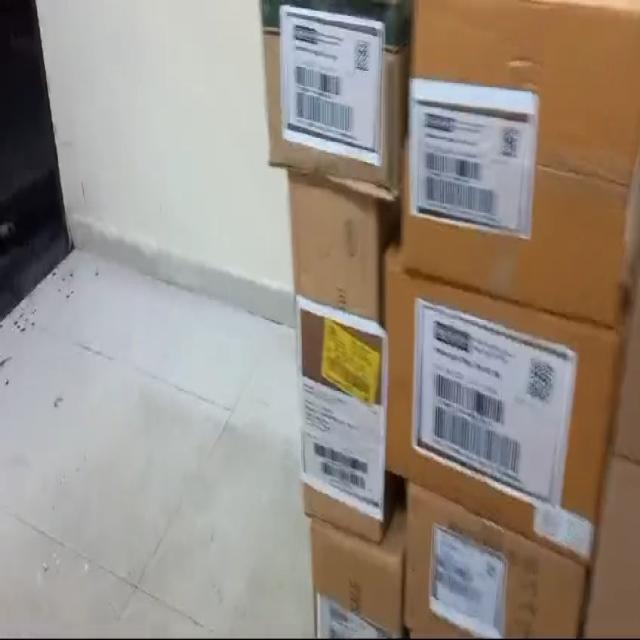BoxFace: (401, 1, 640, 324), (386, 265, 622, 570), (284, 172, 392, 542), (258, 0, 399, 186)
